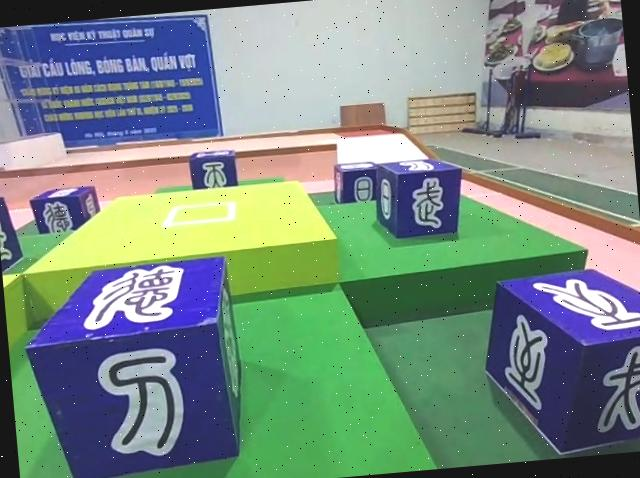R2 Fake Blue: (18, 249, 251, 476), (477, 259, 640, 463), (372, 157, 468, 243), (28, 187, 101, 237), (331, 162, 382, 207), (186, 148, 237, 192), (0, 195, 23, 278)
